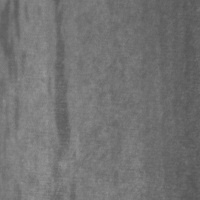inclusion: (47, 1, 73, 180), (0, 1, 27, 92), (7, 81, 24, 149)
